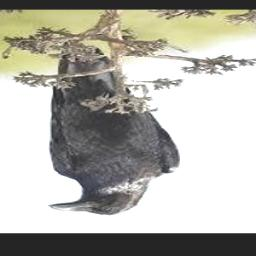Crow: (48, 39, 179, 215)
